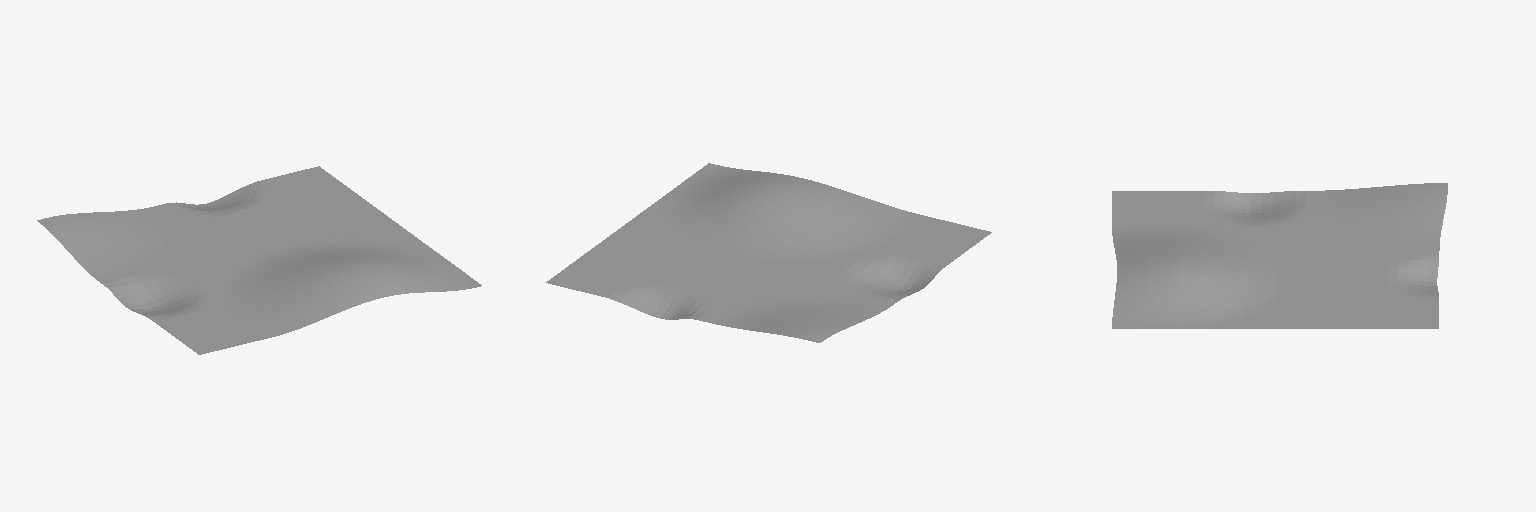
Rendered from terrain.obj.
3 renders of one model, left to right at view 1: azimuth 30°, elevation 25°; view 2: azimuth 150°, elevation 25°; view 3: azimuth 270°, elevation 25°, orthographic.
Parts seen in each view (by area): view 1: Plane; view 2: Plane; view 3: Plane.
Boxes of the visible parts, <box> form: Plane: <box>37,166,481,354</box>; Plane: <box>546,163,991,342</box>; Plane: <box>1112,183,1447,328</box>.
Size of the model in its own units: 36.46 by 2.98 by 37.1.